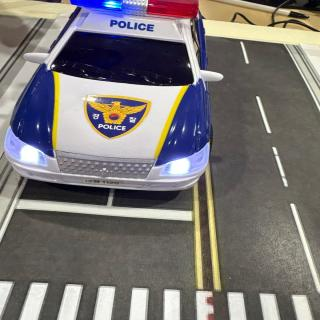Police_car: (4, 8, 223, 189)
